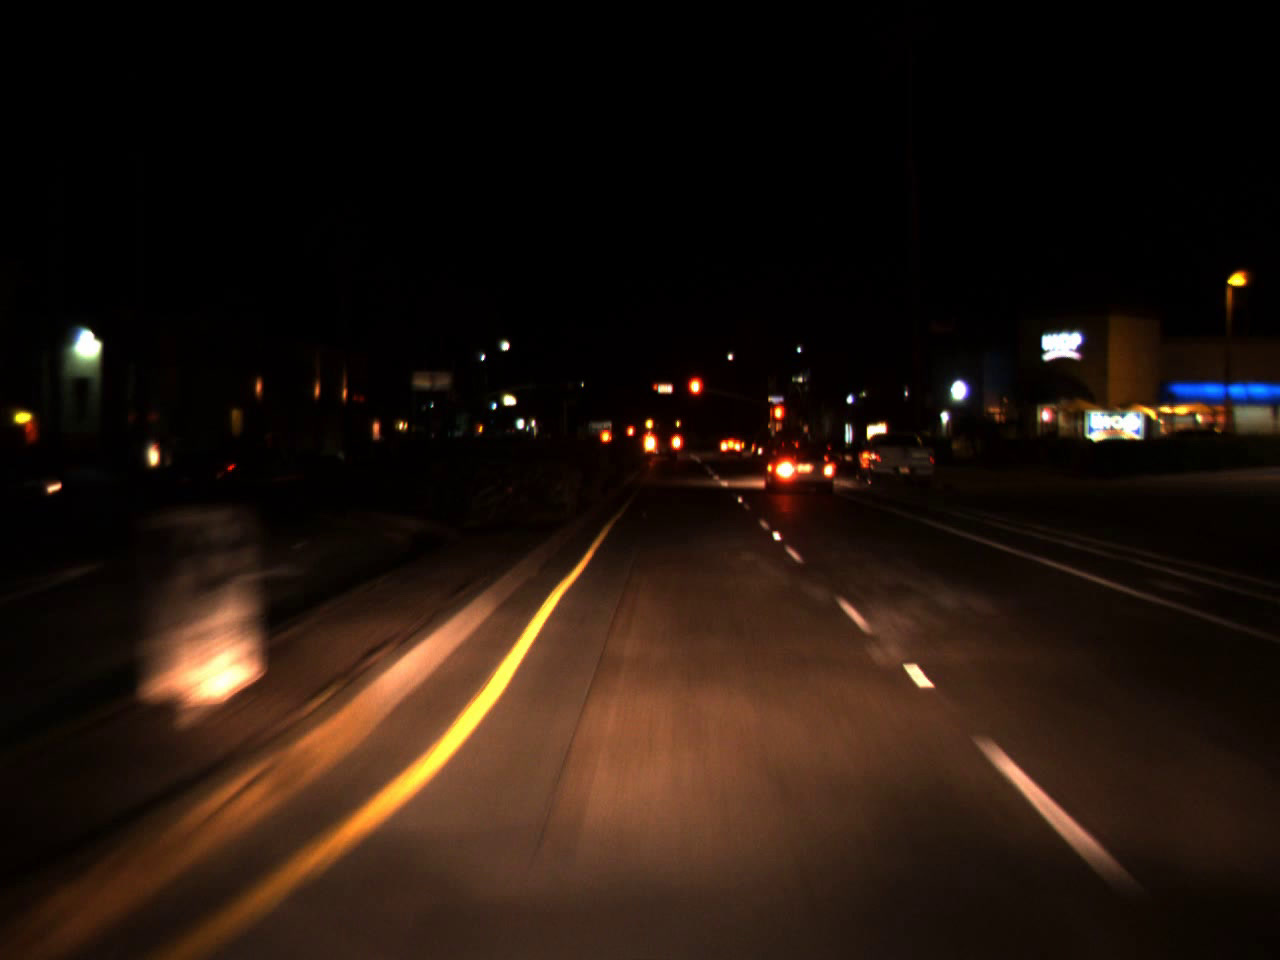stop: (685, 374, 703, 417), (771, 402, 786, 439), (652, 382, 659, 398)
